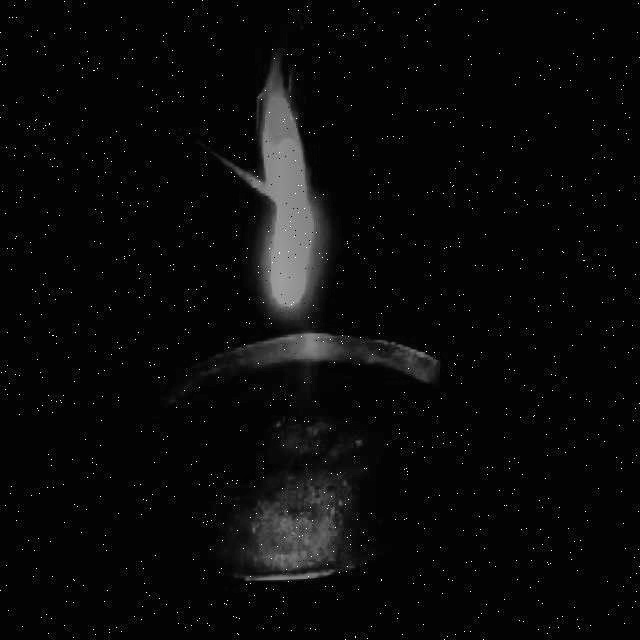Fire: (247, 63, 323, 309)
